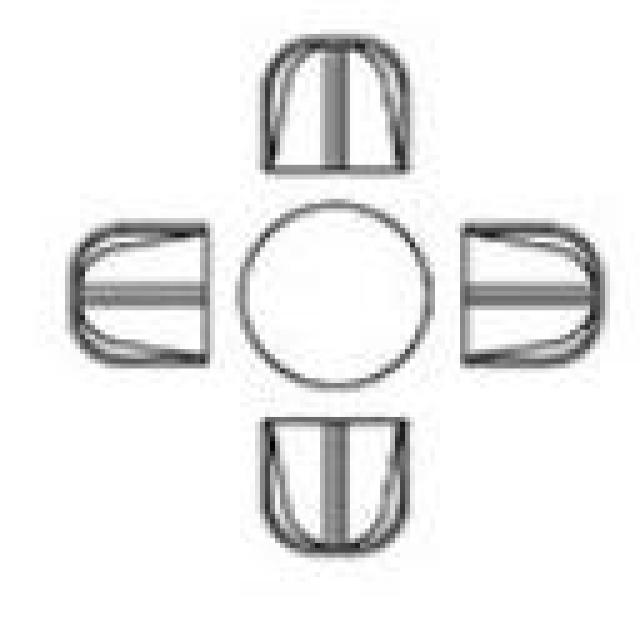table: (70, 34, 605, 548)
